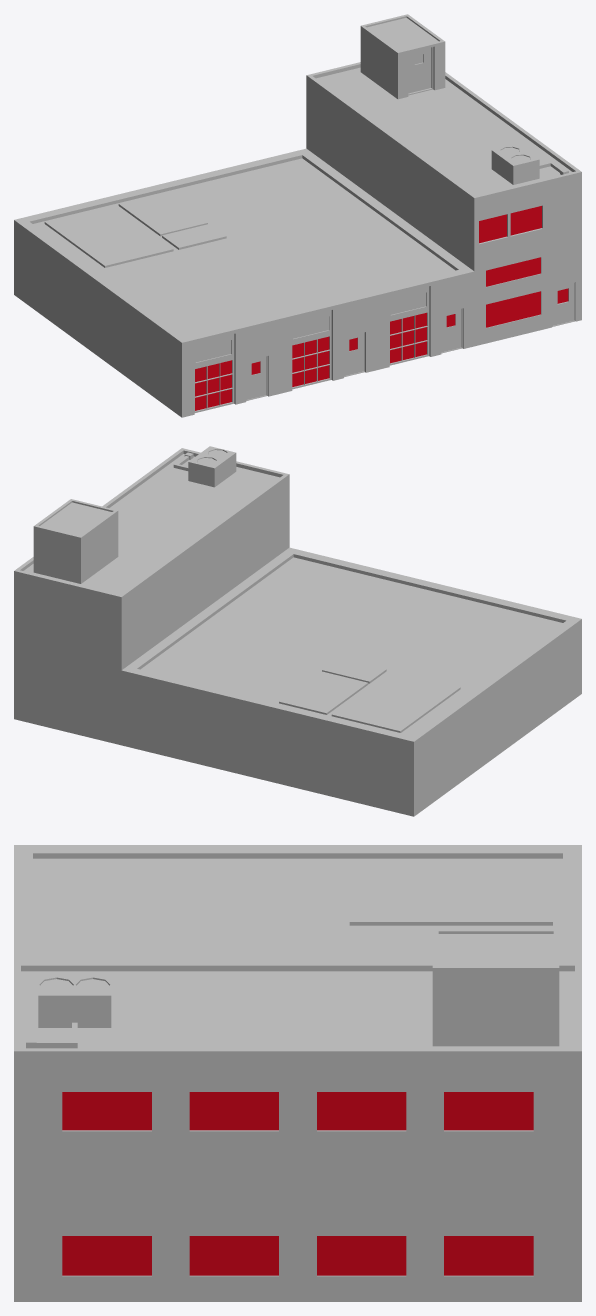
The model's file is SM_tram_depot_01.gltf.
3 views of the same model, one above another, from view 1: azimuth 30°, elevation 25°; view 2: azimuth 150°, elevation 25°; view 3: azimuth 270°, elevation 25° (orthographic). The views are drawn at different scales.
Parts seen in each view (by area): view 1: tram_depot_01; view 2: tram_depot_01; view 3: tram_depot_01.
Boxes of the visible parts, x1,y1,x2,y2 form: tram_depot_01: (14, 14, 581, 417); tram_depot_01: (14, 446, 581, 816); tram_depot_01: (14, 845, 581, 1301).
Bounding box in the file's own units: 22 × 10.05 × 16.
